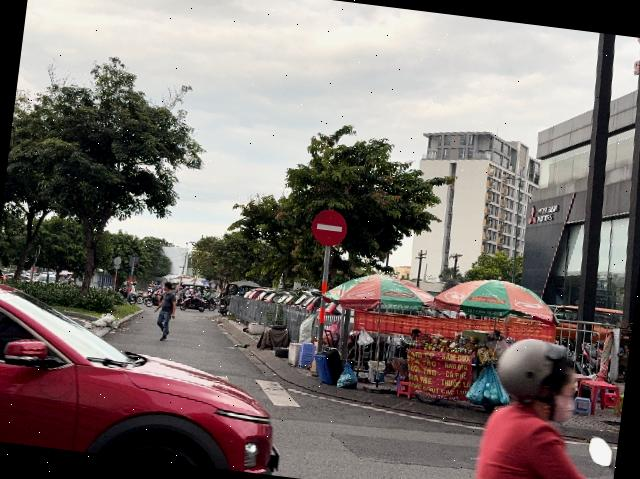cam-di-nguoc-chieu: (310, 208, 350, 249)
